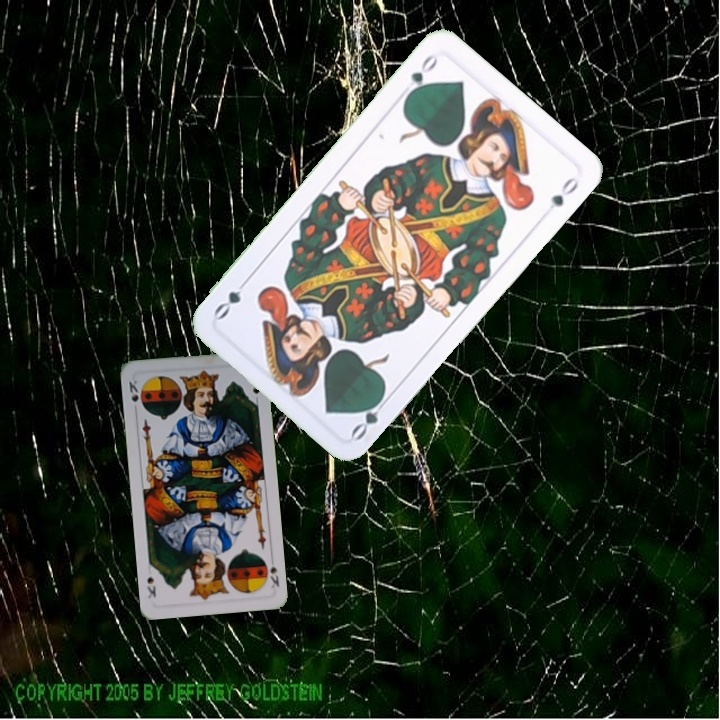GO: (347, 389, 393, 443), (401, 50, 442, 102)
SK: (125, 376, 146, 412), (266, 553, 282, 590)
